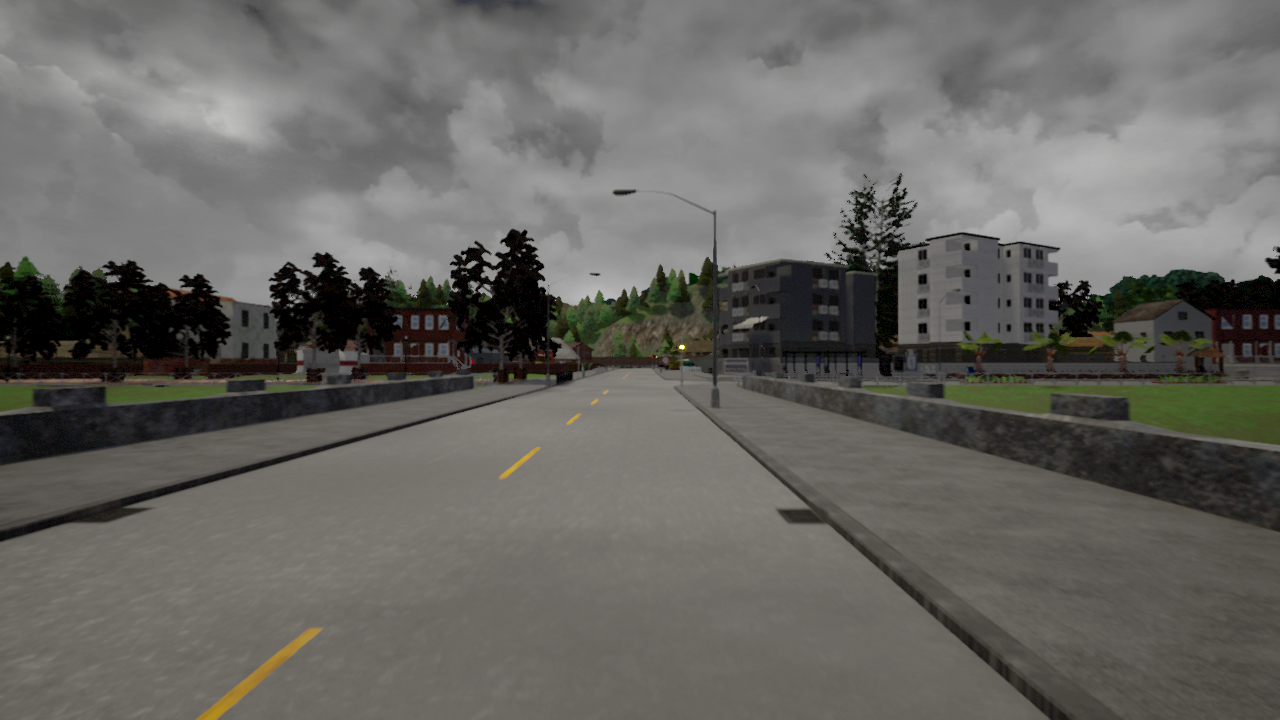yellow: (677, 339, 686, 355)
